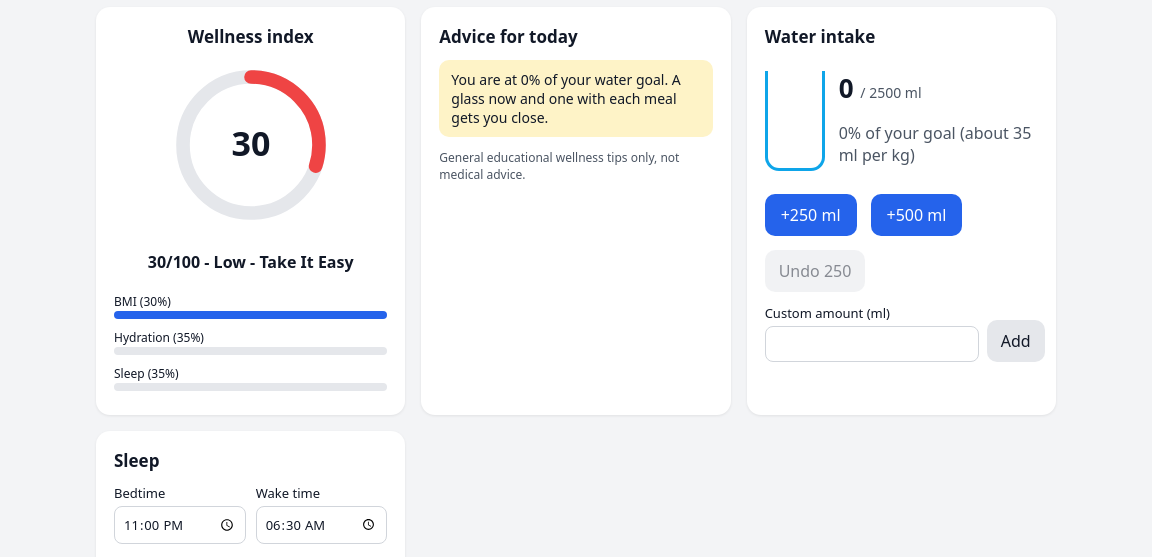
Today tab › refuses identical bed and wake times, accepts a normal night
Replace the text in the time field labelled "Bedtime" with "07:00": (180, 525) [114,506,246,544]
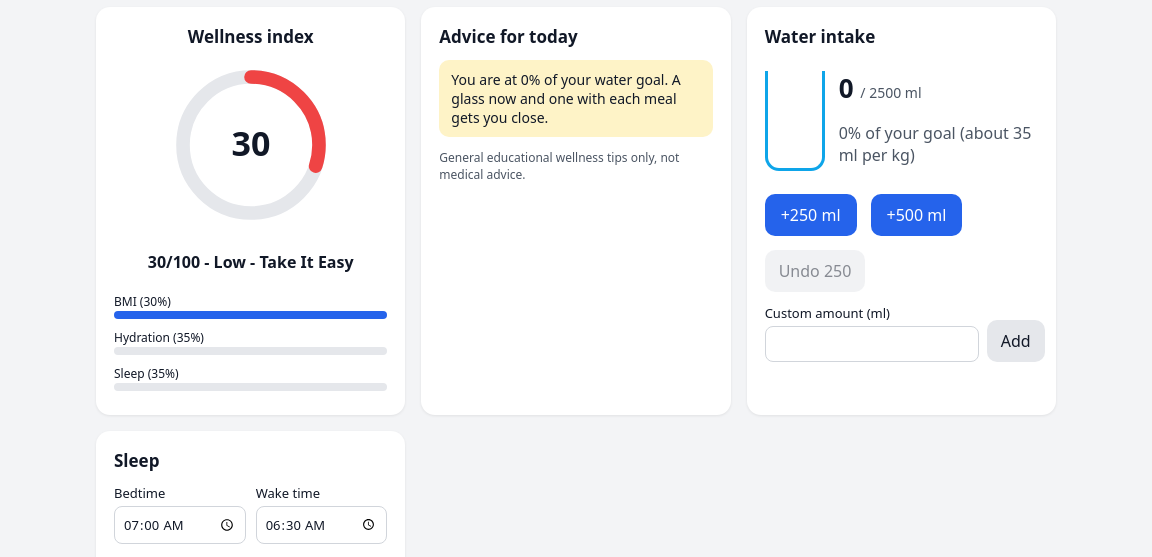
Replace the text in the time field labelled "Wake time" with "07:00": (322, 525) [256,506,387,544]
(page scrolled)
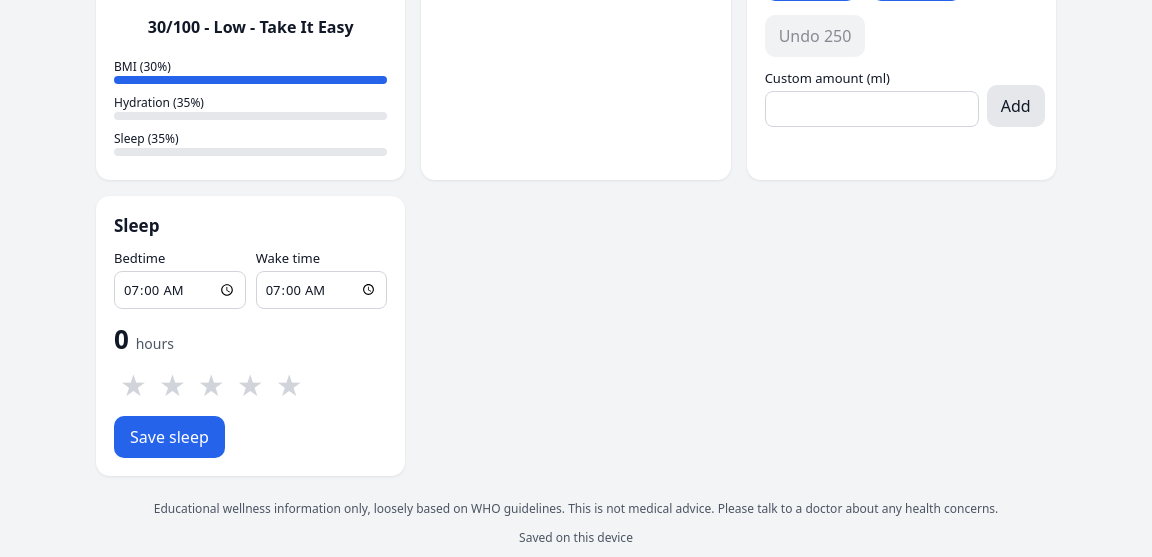
Click the button "Save sleep": click(169, 437) [114,416,225,458]
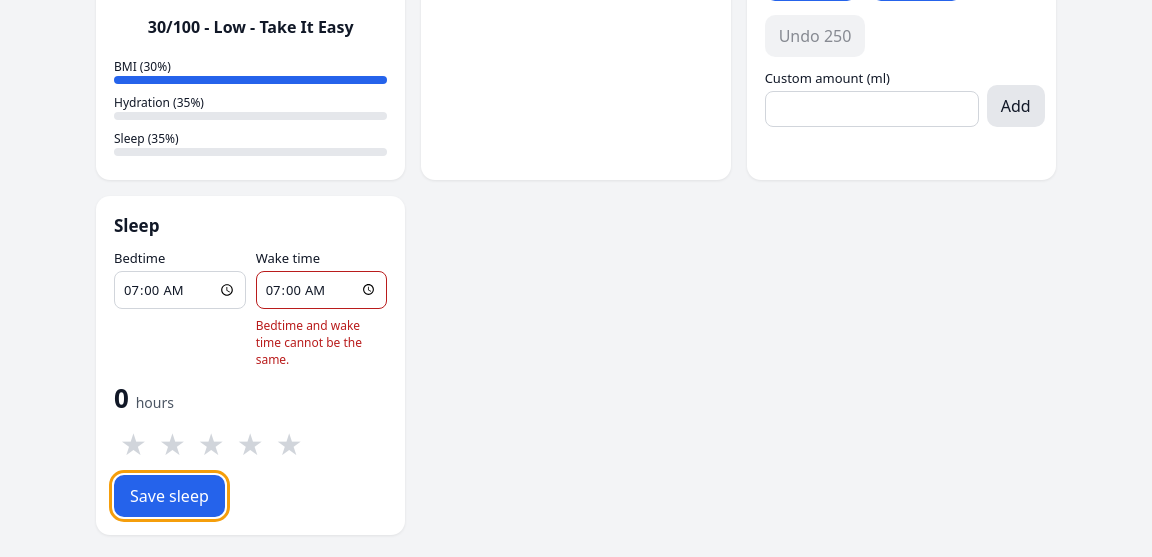
expect the message "Bedtime and wake time cannot be the same." is shown: met, box [256,317,362,368]
Replace the text in the time field labelled "Wake time Bedtime and wake time cannot be the same." with "15:00": (322, 290) [256,271,387,309]
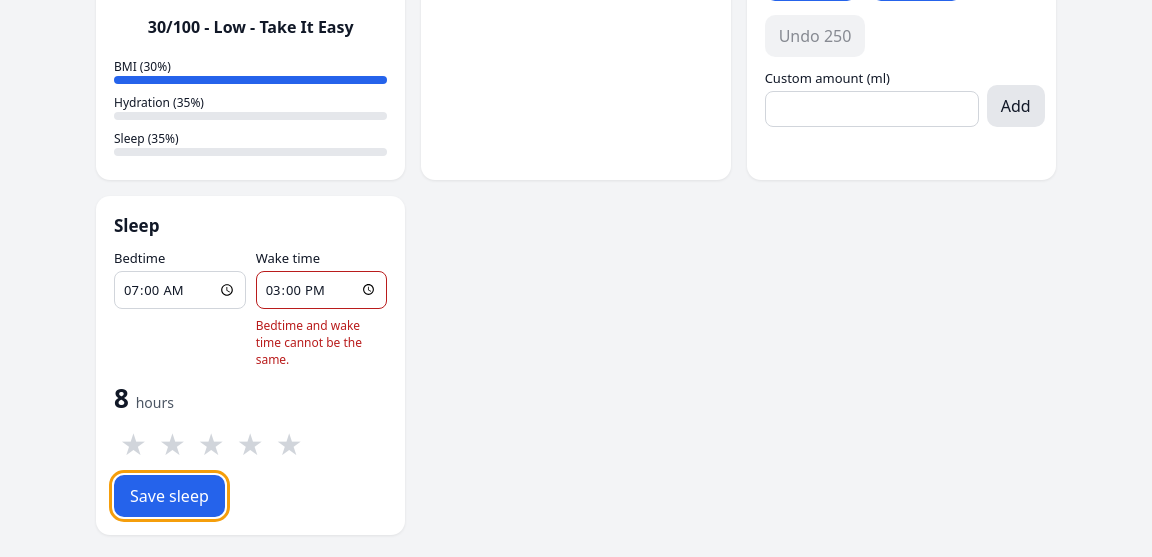
Click the button "Save sleep": click(169, 496) [114,475,225,517]
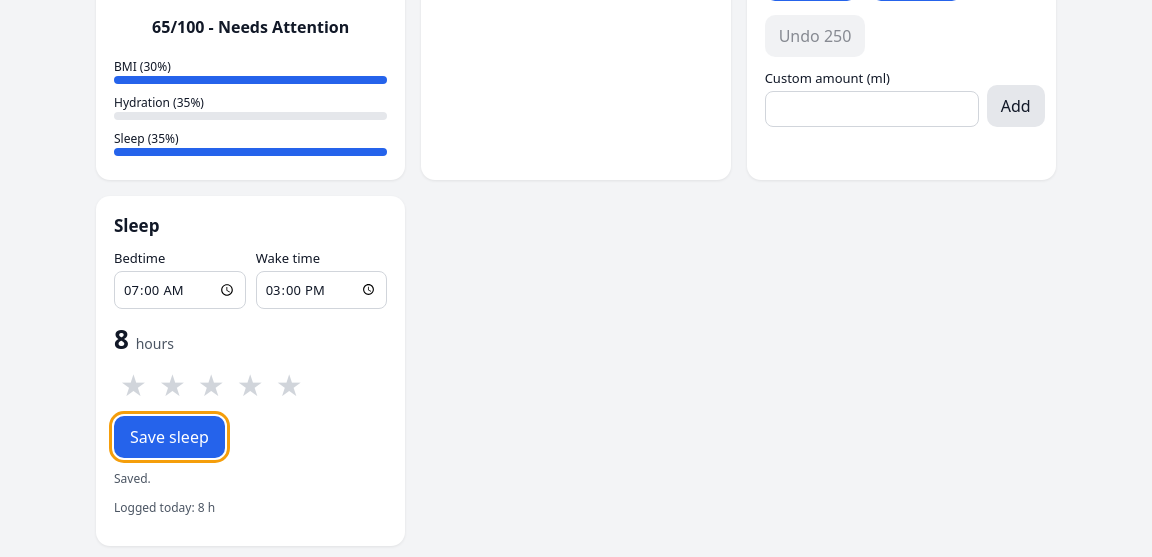
expect the text "Saved." is shown: met, box [114,470,151,487]
